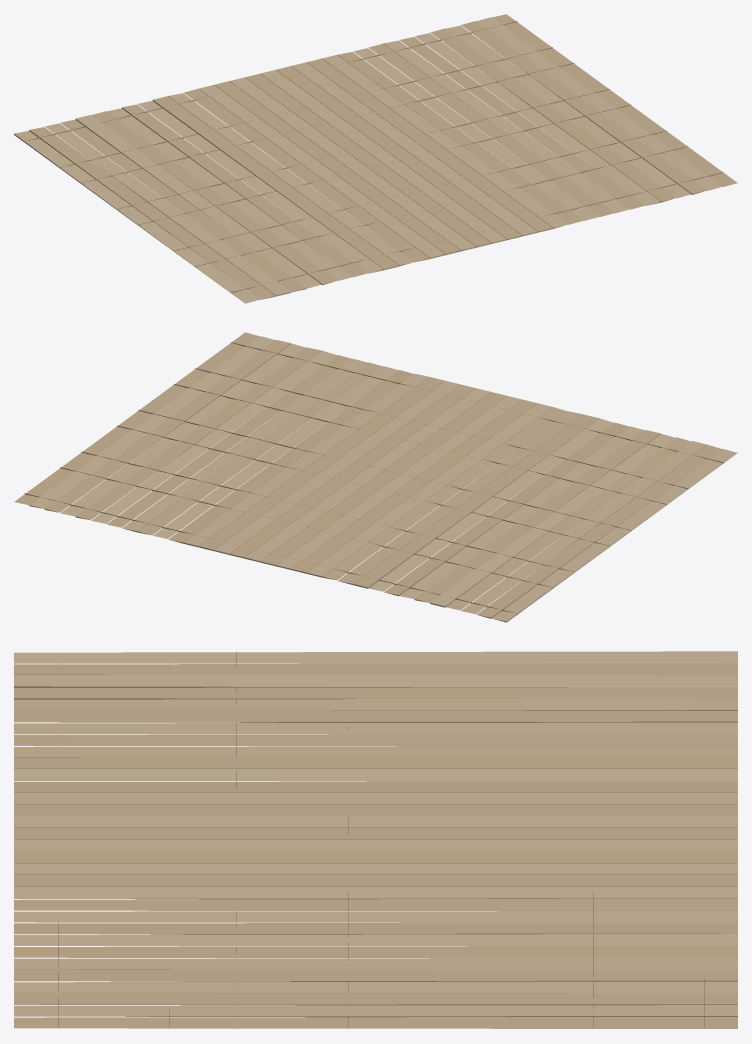
File: home_floor_boards_s3__oak_low.glb
3 renders of one model, top to bottom at view 1: azimuth 30°, elevation 25°; view 2: azimuth 150°, elevation 25°; view 3: azimuth 270°, elevation 25°, orthographic. The views are drawn at different scales.
Size of the model in its own units: 16 by 0.042 by 13.
